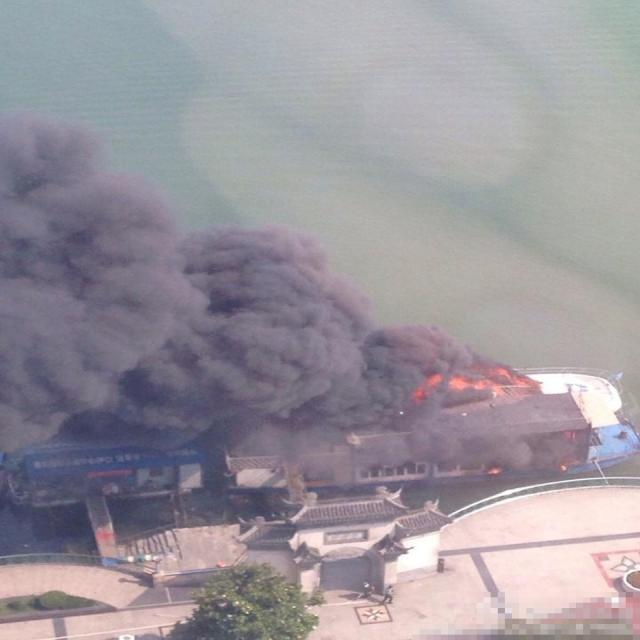Fire: (410, 366, 540, 404)
Smoke: (1, 110, 592, 493)
